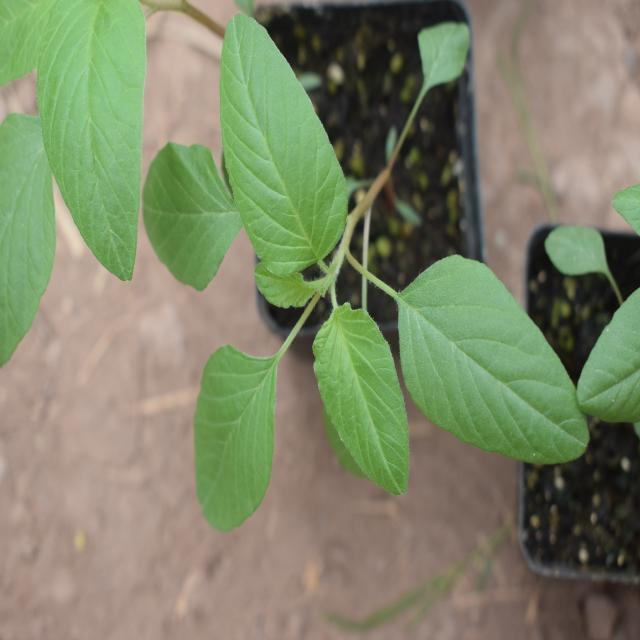pigweed: (148, 16, 596, 516)
